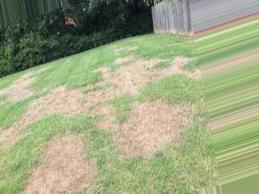patch: (52, 140, 82, 188), (134, 110, 170, 144), (36, 99, 85, 115)
